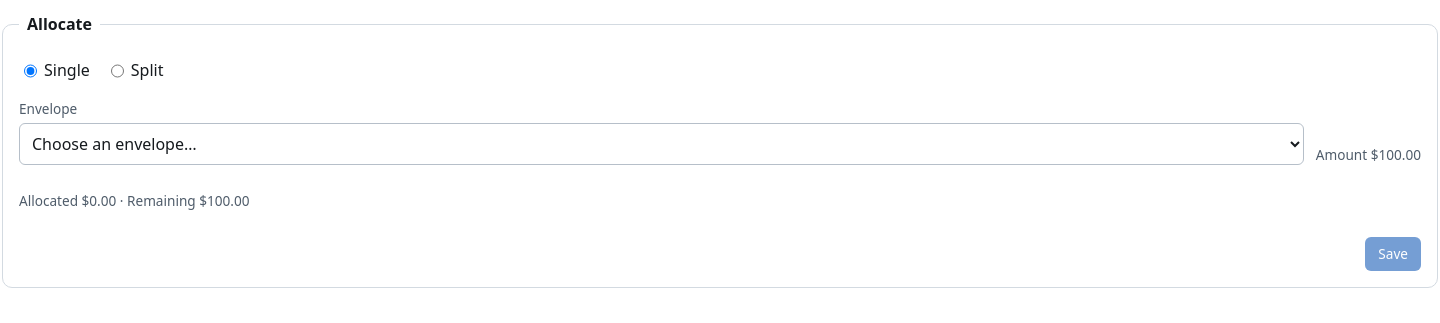
Test: AllocationEditor (split UX — SPIKE-01) › "use remaining" fills a row exactly to zero remaining
This screenshot has width=1440, height=323.
Click the radio button labelled "Split" at (117, 71), box top-left (111, 55), bottom-right (124, 87)
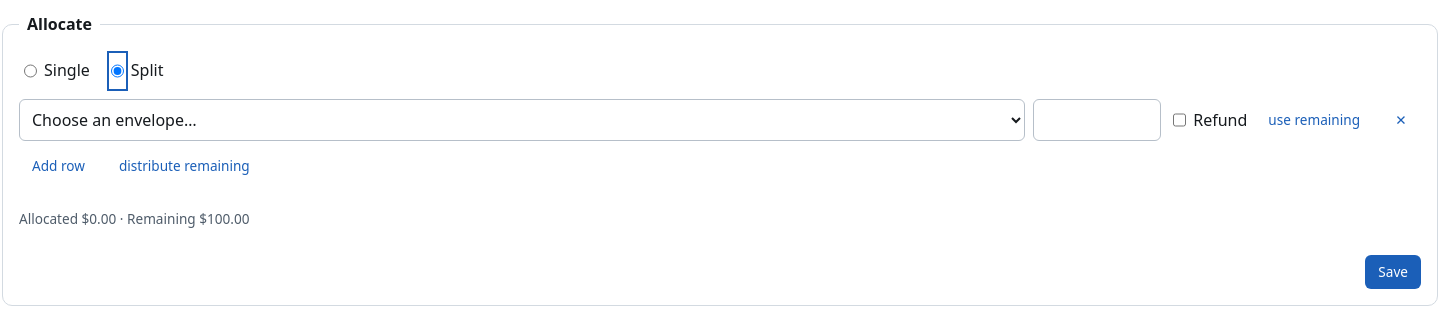
Select "Rent" in the dropdown named "Envelope for row 1" at (522, 120), box top-left (19, 99), bottom-right (1025, 141)
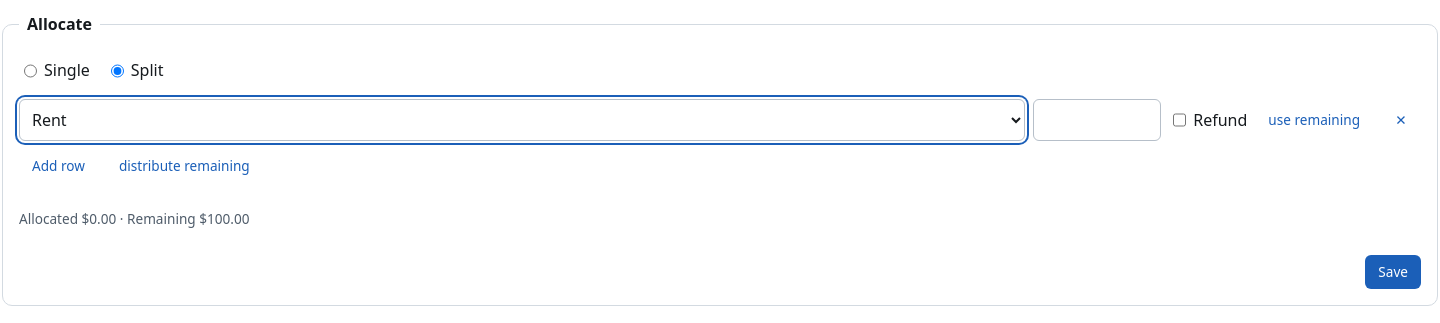
Click the button "use remaining" at (1314, 120), box top-left (1255, 103), bottom-right (1373, 137)
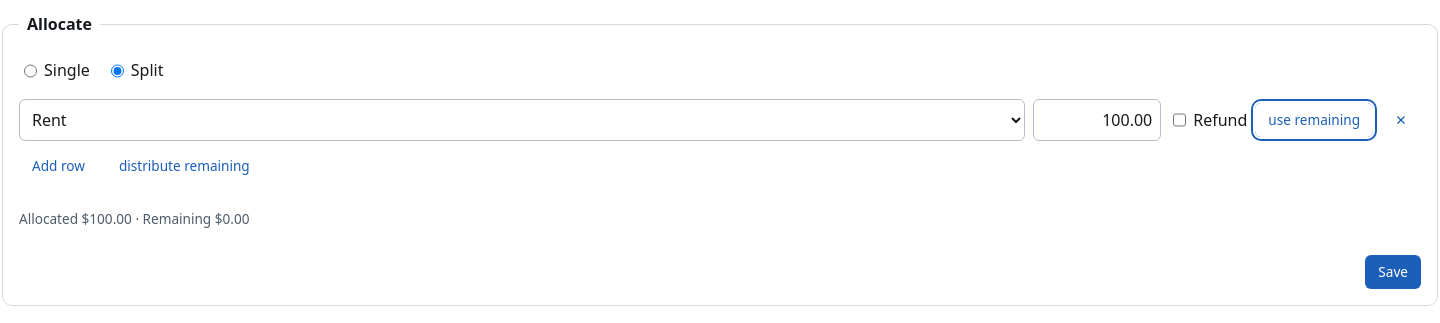
Result: the field named "Amount for row 1" holds "100.00" at top-left (1033, 99), bottom-right (1161, 141)
Result: the text "Allocated $100.00 · Remaining $0.00" is shown at top-left (19, 209), bottom-right (250, 228)
